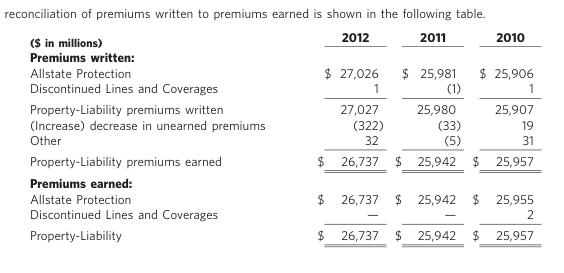table: (28, 28, 532, 241)
table column: (28, 28, 290, 241), (290, 28, 388, 241), (388, 28, 465, 241), (465, 28, 532, 241)
table column header: (28, 28, 532, 48)
table projected row header: (28, 171, 532, 190), (28, 48, 532, 64)
table row: (28, 149, 532, 171), (28, 28, 532, 48), (28, 171, 532, 190), (28, 205, 532, 224), (28, 80, 532, 98), (28, 98, 532, 116), (28, 131, 532, 149), (28, 224, 532, 241), (28, 48, 532, 64), (28, 64, 532, 80), (28, 116, 532, 131), (28, 190, 532, 205)
